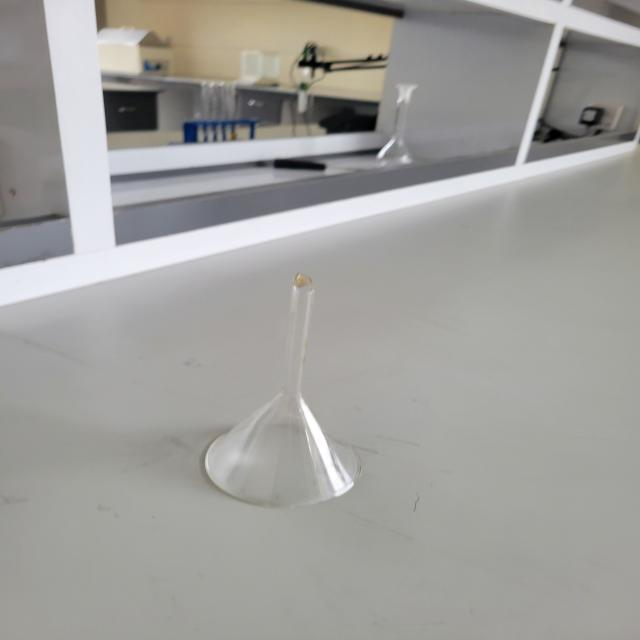Funnel: (182, 250, 398, 550)
